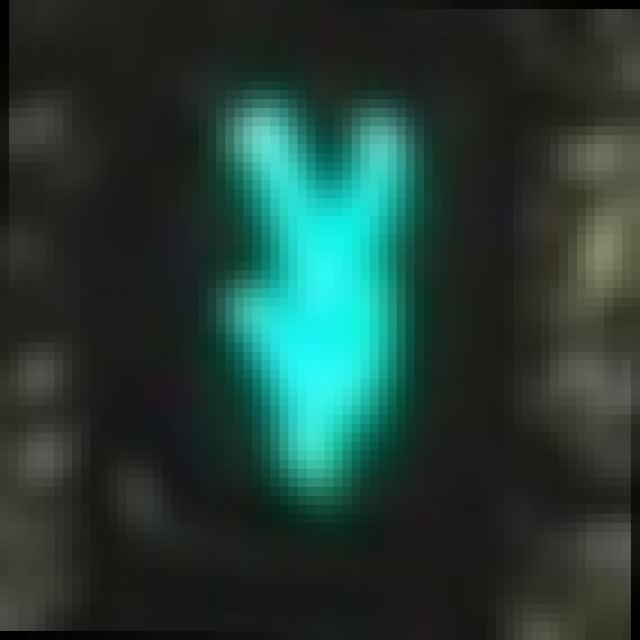green_light: (189, 81, 424, 523)
